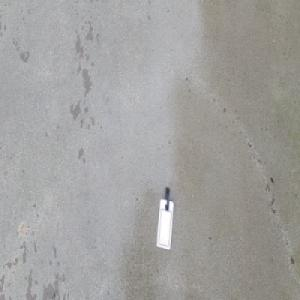LuggageTag: (155, 186, 174, 250)
